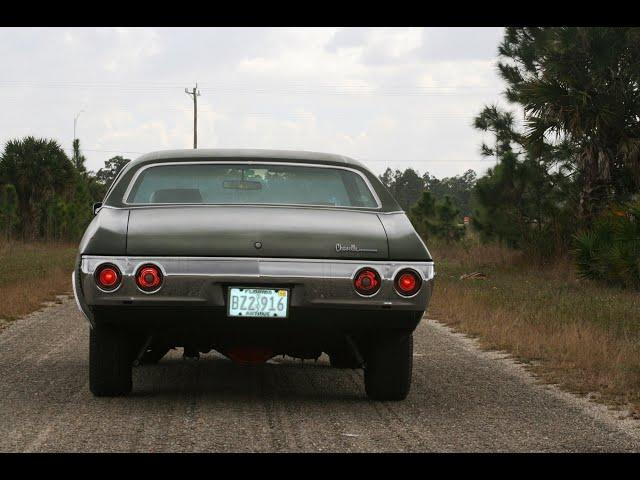chevelle-1972: (72, 149, 433, 399)
